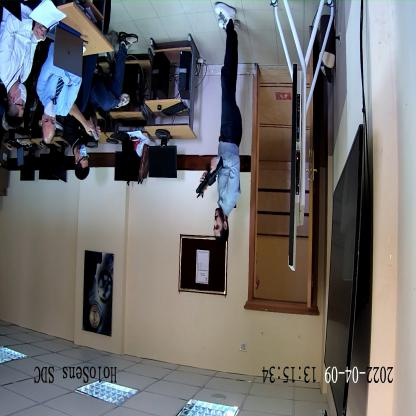handgun: (198, 155, 224, 199)
